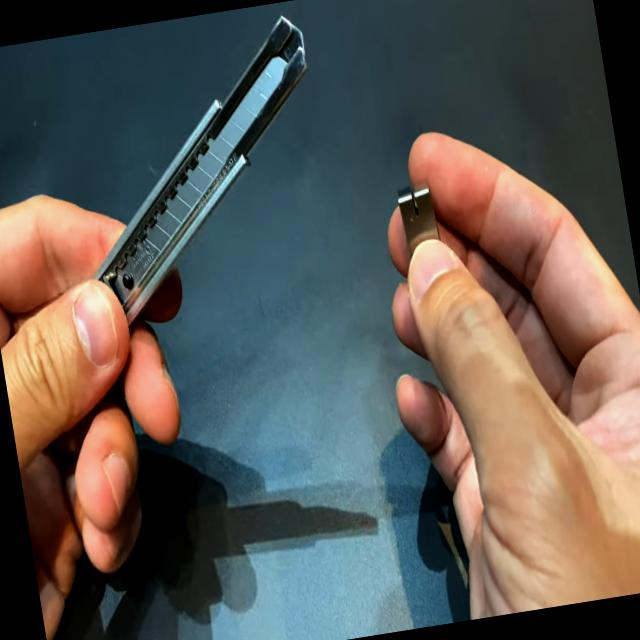cutter: (0, 0, 396, 605)
